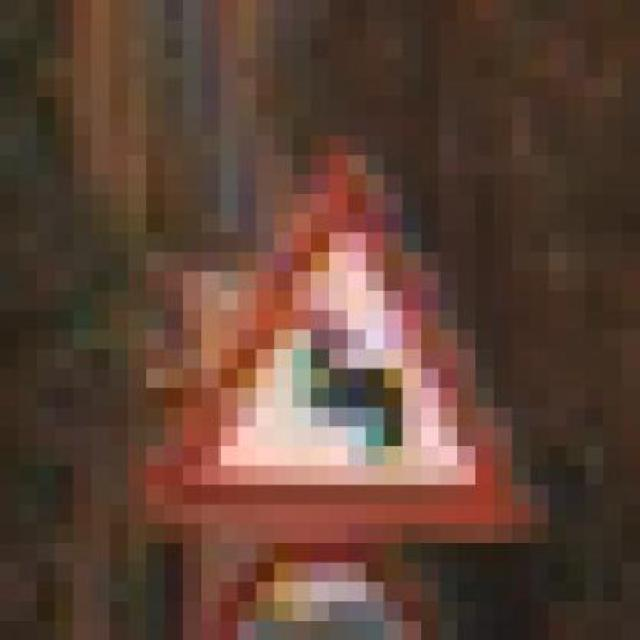Left Zig Zag Traffic: (109, 155, 531, 562)
